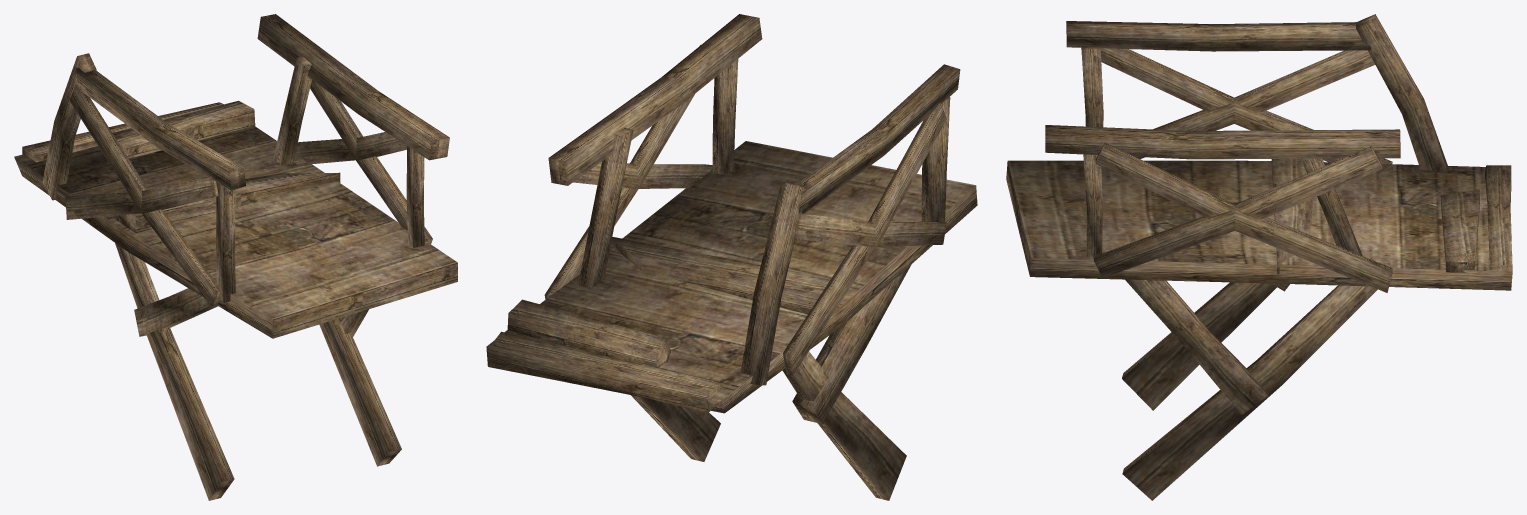
Rendered from S_Build_West069.FBX.
3 renders of one model, left to right at view 1: azimuth 30°, elevation 25°; view 2: azimuth 150°, elevation 25°; view 3: azimuth 270°, elevation 25°, orthographic. The views are drawn at different scales.
Parts seen in each view (by area): view 1: S_Build_West069; view 2: S_Build_West069; view 3: S_Build_West069.
Boxes of the visible parts, x1,y1,x2,y2 form: S_Build_West069: (14,14,457,500); S_Build_West069: (486,14,977,500); S_Build_West069: (1006,14,1512,500).
Bounding box in the file's own units: 144 × 277 × 233.
